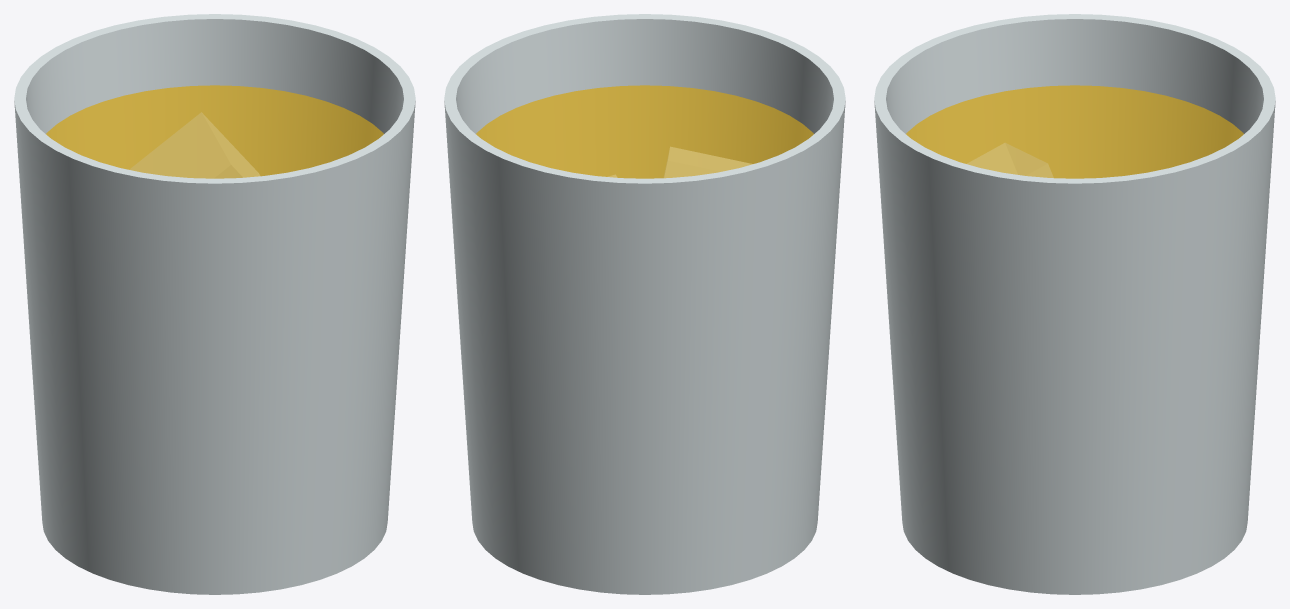
The model's file is caipirinha-amarelo.glb.
3 views of the same model, side by side, from view 1: azimuth 30°, elevation 25°; view 2: azimuth 150°, elevation 25°; view 3: azimuth 270°, elevation 25° (orthographic).
Visible parts, largest first — view 1: caipirinha-amarelo; view 2: caipirinha-amarelo; view 3: caipirinha-amarelo.
Part boxes in pixels (x1=…): caipirinha-amarelo: x1=14, y1=14, x2=415, y2=594; caipirinha-amarelo: x1=444, y1=14, x2=845, y2=594; caipirinha-amarelo: x1=874, y1=14, x2=1275, y2=594.
Size of the model in its own units: 0.086 by 0.1 by 0.086.
